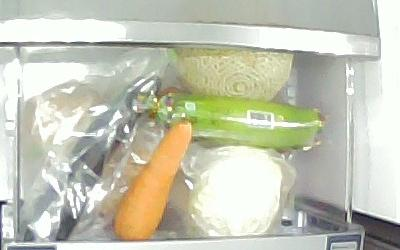cabbage_vinyl: (184, 144, 283, 236)
carrot: (110, 117, 193, 239)
eggplant_vinyl: (13, 72, 162, 243)
melon: (169, 46, 294, 102)
zucchini: (160, 92, 319, 149)
